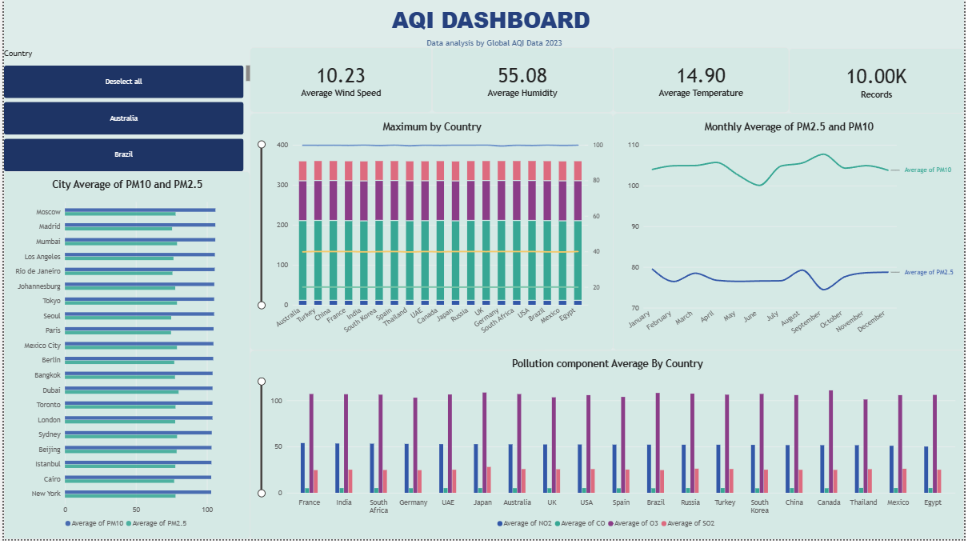

Layout of this report page (visuals, bound fields, positions):
{"tool":"powerbi","page":{"name":"Page 1","canvas":[1920,1080],"ordinal":0},"visuals":[{"type":"clusteredBarChart","title":"City Average of  PM10 and PM2.5","fields":{"Category":["global_air_quality_data_10000.City"],"Y":["Avg(global_air_quality_data_10000.PM10)","Avg(global_air_quality_data_10000.PM2.5)"]},"box":[0,344,492,736],"z":0},{"type":"card","fields":{"Values":["CountNonNull(global_air_quality_data_10000.City)"]},"box":[1570,98,350,130],"z":1000},{"type":"card","fields":{"Values":["Avg(global_air_quality_data_10000.Temperature)"]},"box":[1218,96,352,130],"z":2000},{"type":"card","fields":{"Values":["Avg(global_air_quality_data_10000.Wind Speed)"]},"box":[492,96,364,130],"z":3000},{"type":"card","fields":{"Values":["Avg(global_air_quality_data_10000.Humidity)"]},"box":[856,96,362,130],"z":4000},{"type":"lineChart","title":"Monthly Average of PM2.5 and PM10 ","fields":{"Category":["global_air_quality_data_10000.Date.Variation.Date Hierarchy.Month"],"Y":["Avg(global_air_quality_data_10000.PM2.5)","Avg(global_air_quality_data_10000.PM10)"]},"box":[1218,228,702,474],"z":5000},{"type":"clusteredColumnChart","title":"Pollution component Average By Country","fields":{"Category":["global_air_quality_data_10000.Country"],"Y":["Avg(global_air_quality_data_10000.NO2)","Avg(global_air_quality_data_10000.CO)","Avg(global_air_quality_data_10000.O3)","Avg(global_air_quality_data_10000.SO2)"]},"box":[492,702,1428,378],"z":6000},{"type":"textbox","box":[0,0,1920,96],"z":7000},{"type":"advancedSlicerVisual","fields":{"Values":["global_air_quality_data_10000.Country"]},"box":[0,98,492,246],"z":8000},{"type":"lineStackedColumnComboChart","title":"Maximum by Country","fields":{"Category":["global_air_quality_data_10000.Country"],"Y":["Max(global_air_quality_data_10000.CO)","Max(global_air_quality_data_10000.O3)","Max(global_air_quality_data_10000.NO2)","Max(global_air_quality_data_10000.SO2)"],"Y2":["Max(global_air_quality_data_10000.Humidity)","Max(global_air_quality_data_10000.Temperature)","Max(global_air_quality_data_10000.Wind Speed)"]},"box":[492,228,726,474],"z":9000}]}

Visuals, with their boxes in screenshot pixels (x1, y1, x2, y2), scaled from the page's 1920x1080 canvas onto the 966x541 screenshot:
"City Average of  PM10 and PM2.5" clusteredBarChart: [x1=0, y1=172, x2=248, y2=540]
card - CountNonNull(global_air_quality_data_10000.City): [x1=790, y1=49, x2=965, y2=114]
card - Avg(global_air_quality_data_10000.Temperature): [x1=613, y1=48, x2=790, y2=113]
card - Avg(global_air_quality_data_10000.Wind Speed): [x1=248, y1=48, x2=431, y2=113]
card - Avg(global_air_quality_data_10000.Humidity): [x1=431, y1=48, x2=613, y2=113]
"Monthly Average of PM2.5 and PM10 " lineChart: [x1=613, y1=114, x2=965, y2=352]
"Pollution component Average By Country" clusteredColumnChart: [x1=248, y1=352, x2=965, y2=540]
textbox: [x1=0, y1=0, x2=965, y2=48]
advancedSlicerVisual - global_air_quality_data_10000.Country: [x1=0, y1=49, x2=248, y2=172]
"Maximum by Country" lineStackedColumnComboChart: [x1=248, y1=114, x2=613, y2=352]
